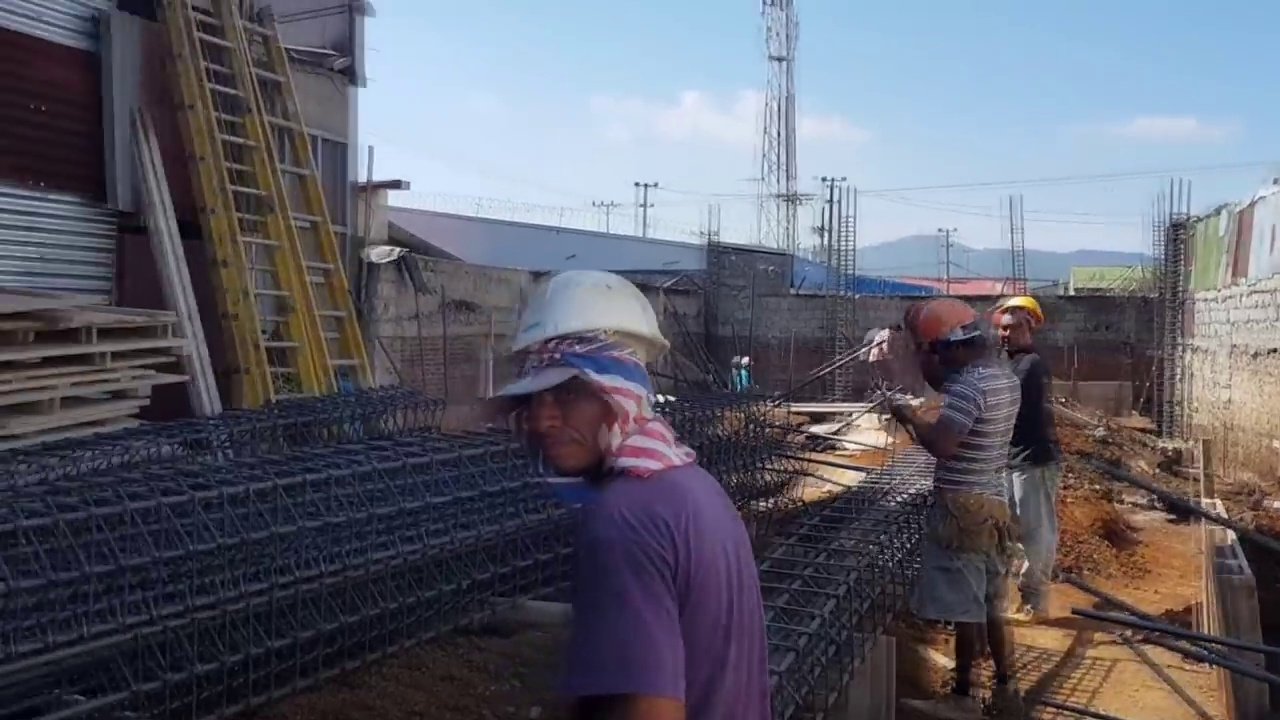helmet: (493, 270, 675, 410), (908, 298, 980, 349), (997, 296, 1047, 323), (741, 355, 754, 368)
helmet-off: (887, 321, 903, 337)
helmet-on: (493, 272, 678, 497), (908, 298, 994, 398), (996, 296, 1048, 359), (741, 356, 754, 373)
person: (493, 273, 775, 716), (877, 295, 1023, 717), (1006, 299, 1069, 588), (867, 321, 903, 398), (735, 356, 755, 395)
